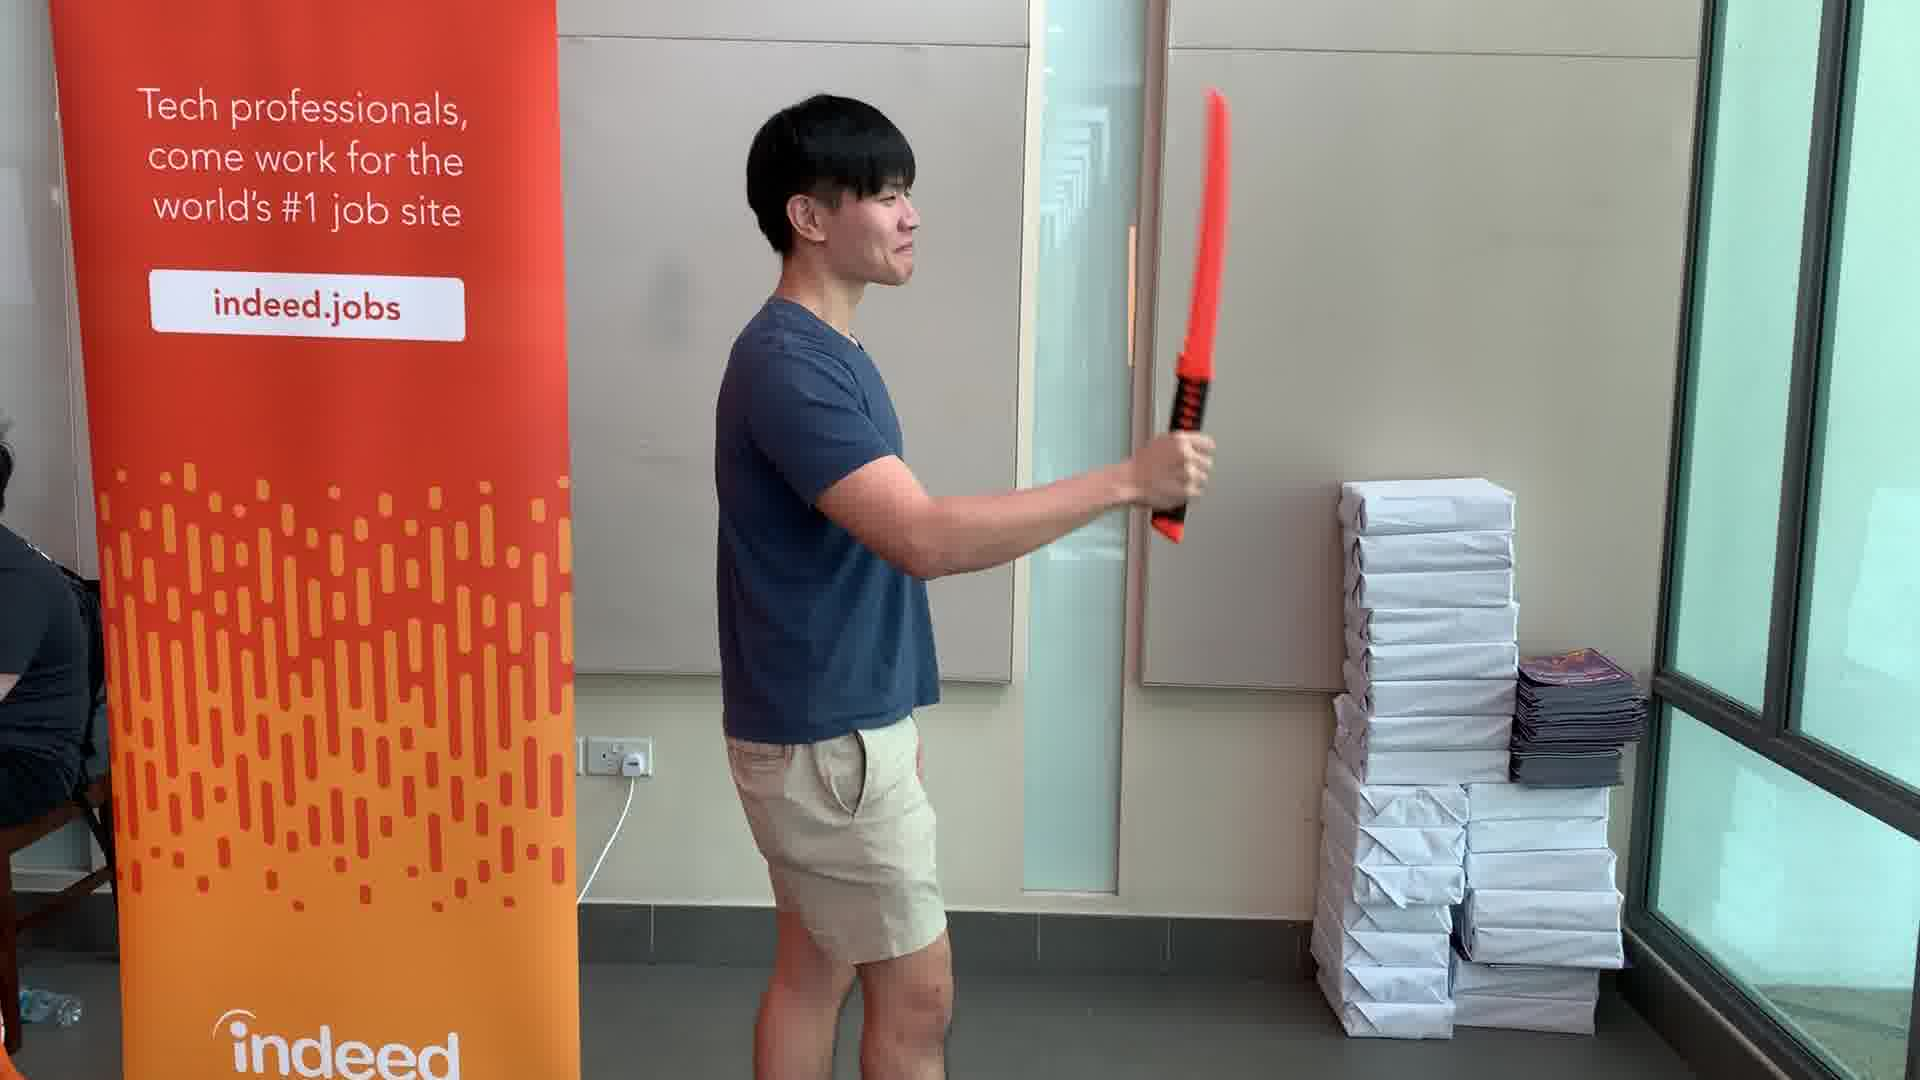knife: (1149, 80, 1240, 564)
